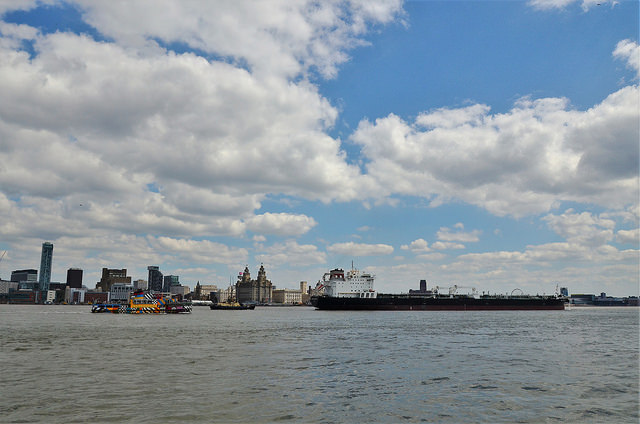boat: (85, 280, 193, 321)
tanker: (310, 263, 570, 311)
tug_boat: (212, 284, 256, 313)
